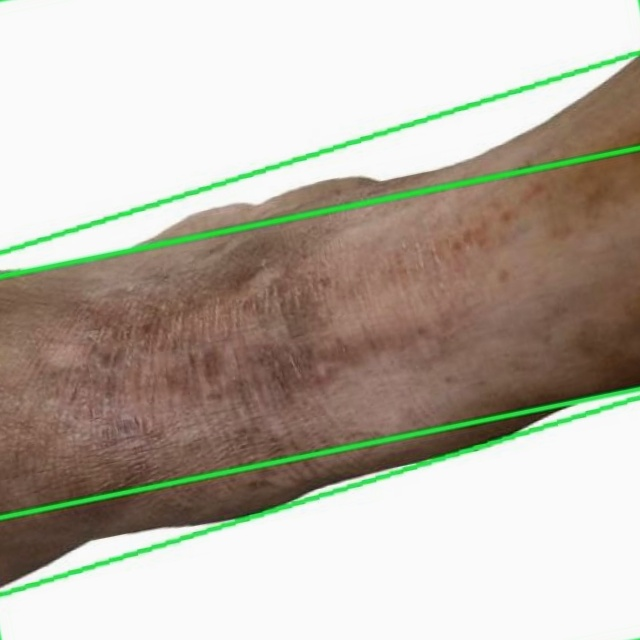Eczema: (0, 53, 639, 595), (0, 0, 639, 276), (0, 388, 639, 639)
